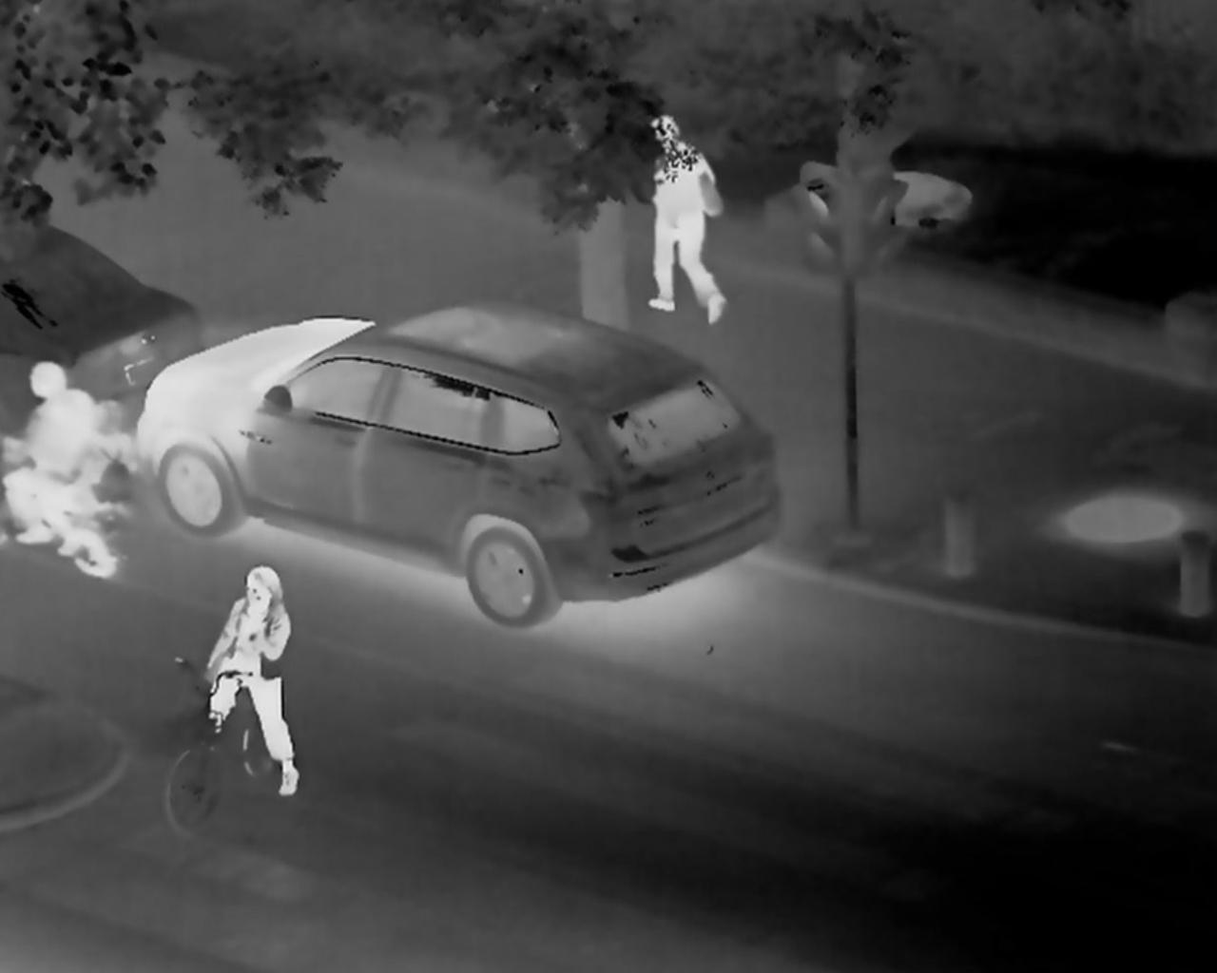person: (198, 562, 299, 799), (19, 392, 138, 560), (645, 111, 728, 327), (6, 360, 94, 544)
